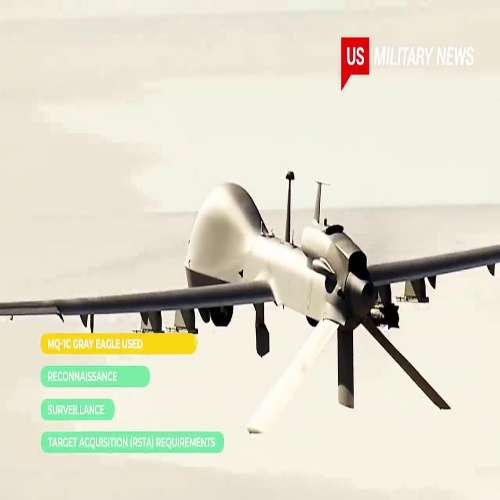uav65: (5, 173, 499, 416)
